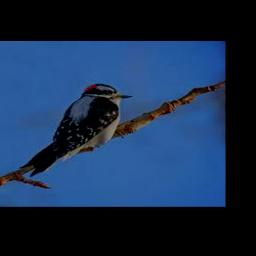Woodpecker: (21, 84, 133, 176)
